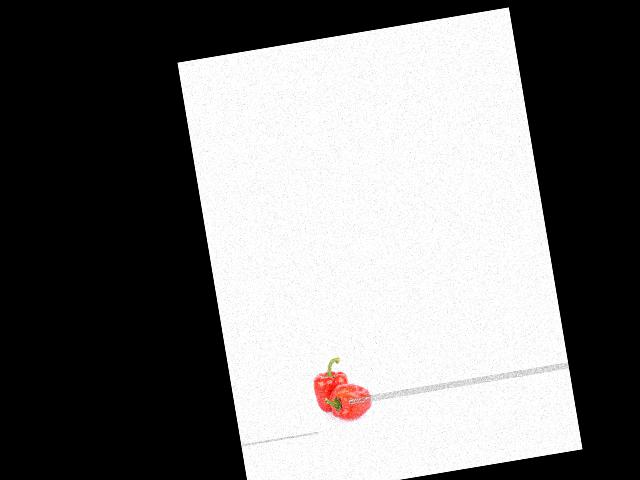bell_pepper: (323, 376, 378, 423)
